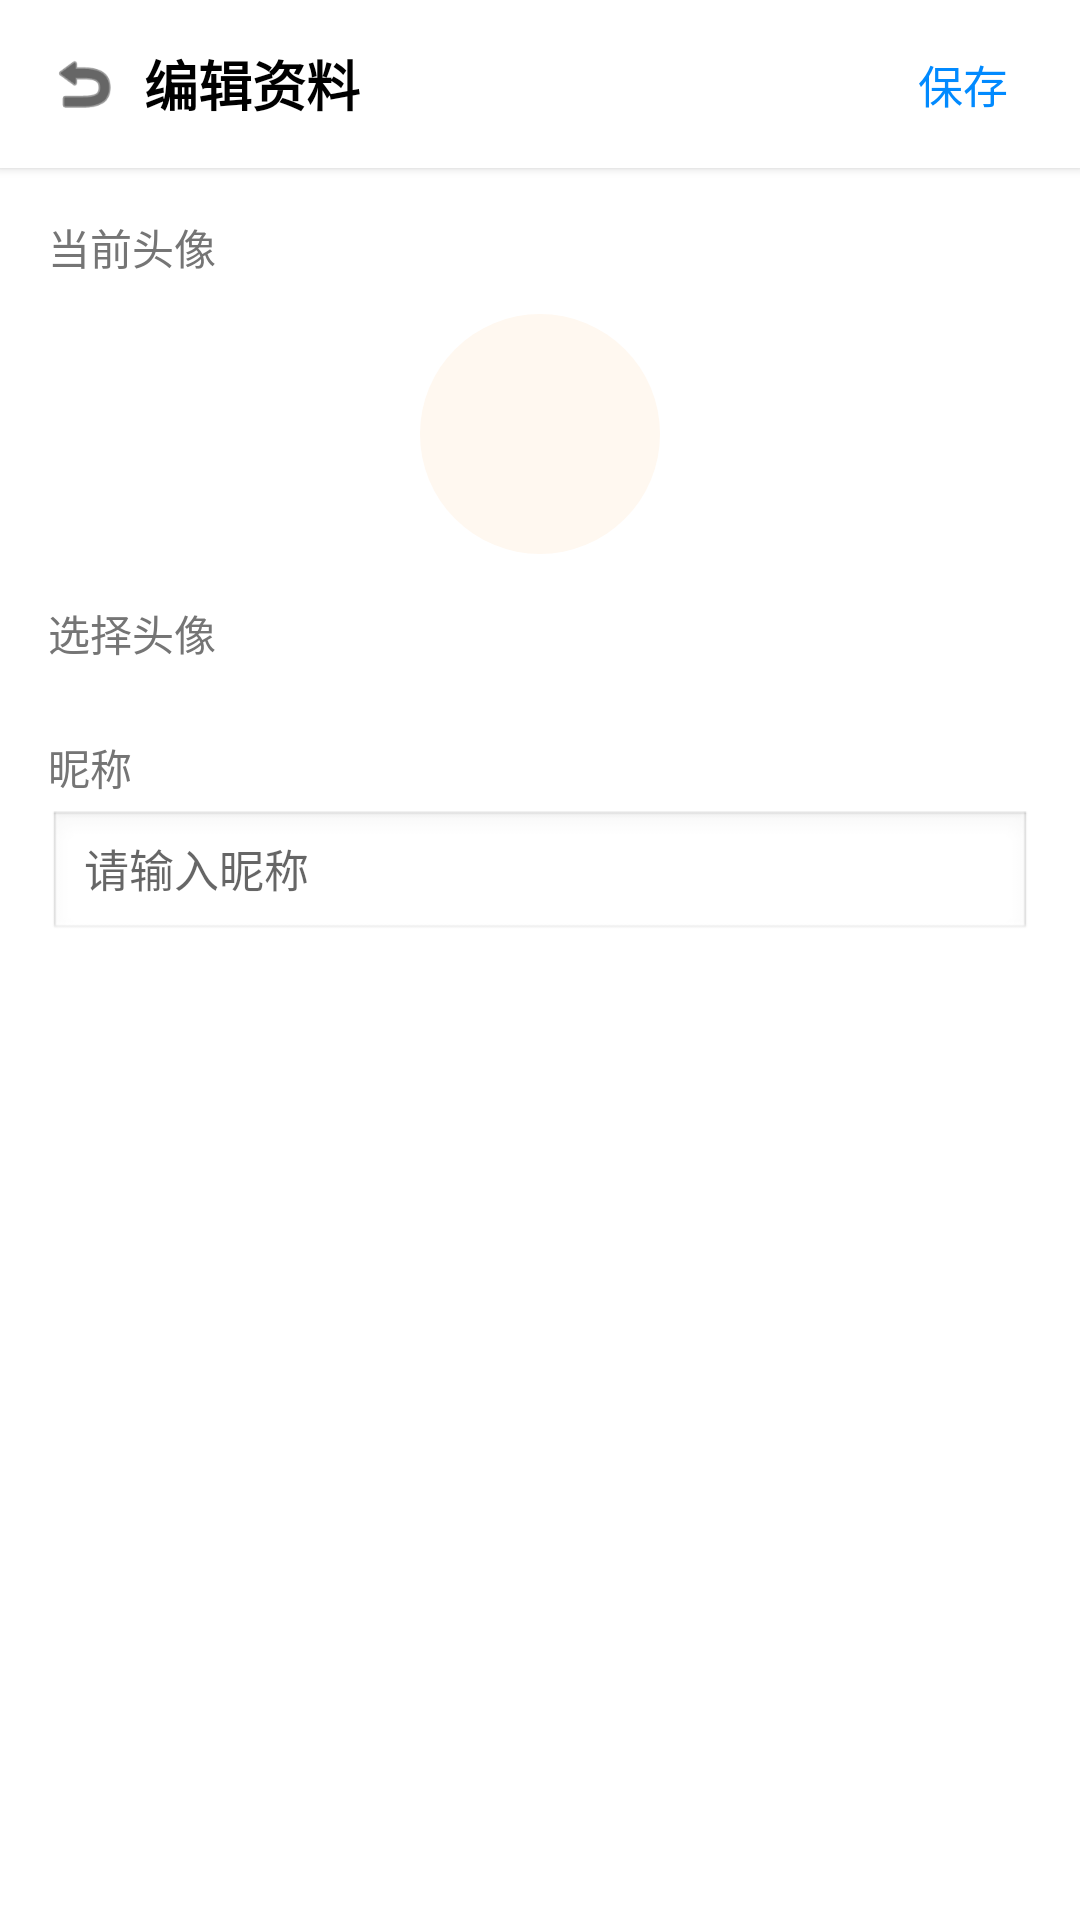

Screen size 1080w x 1920h. Icon name, then its center in pixels as (x=x, y=y):
返回: (x=85, y=84)
